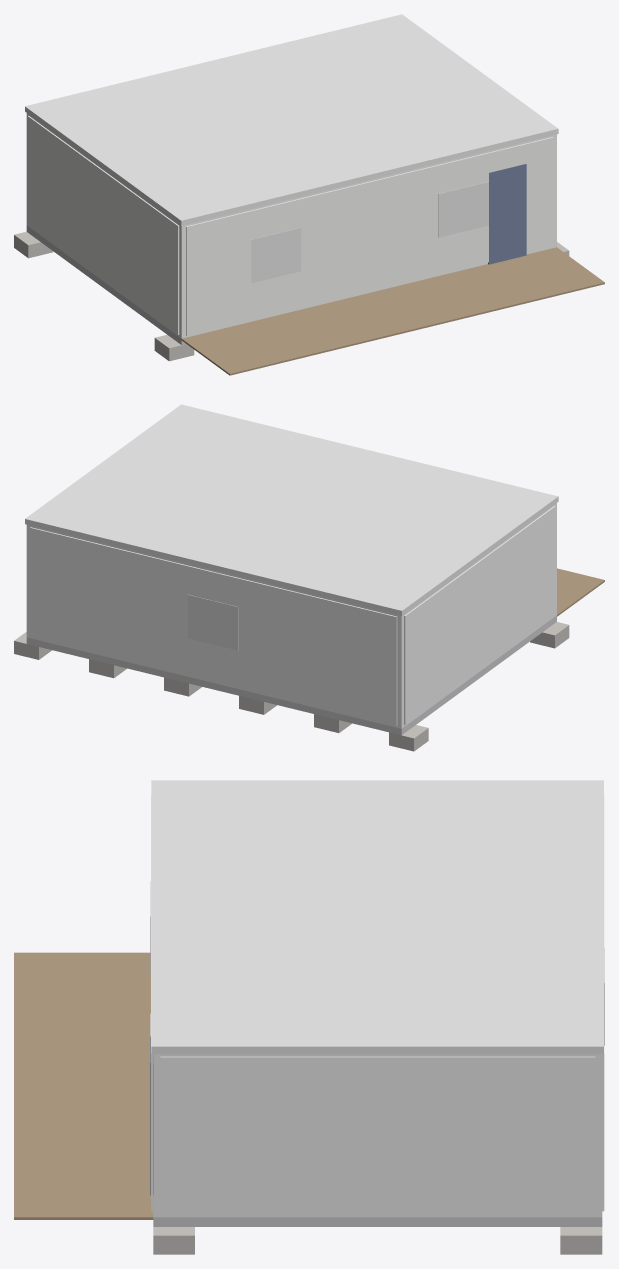
Rendered from Studio-30-TerraceDeck-LOD0.glb.
3 views of the same model, one above another, from view 1: azimuth 30°, elevation 25°; view 2: azimuth 150°, elevation 25°; view 3: azimuth 270°, elevation 25° (orthographic). The views are drawn at different scales.
Parts seen in each view (by area): view 1: RoofMain, ExteriorPanelsStandard, TerraceDeck, WindowsStandard, ExteriorShell, EntryDoor, FoundationBlocks, BaseFrame; view 2: RoofMain, ExteriorPanelsStandard, BaseFrame, FoundationBlocks, ExteriorShell, WindowsStandard, TerraceDeck; view 3: RoofMain, ExteriorPanelsStandard, TerraceDeck, ExteriorShell, BaseFrame, FoundationBlocks.
Part boxes in pixels (left/top/right/bottom): RoofMain: left=25, top=14, right=558, bottom=225; ExteriorPanelsStandard: left=27, top=115, right=553, bottom=335; TerraceDeck: left=181, top=247, right=604, bottom=375; WindowsStandard: left=251, top=181, right=488, bottom=283; ExteriorShell: left=26, top=113, right=556, bottom=338; EntryDoor: left=488, top=164, right=526, bottom=264; FoundationBlocks: left=14, top=231, right=569, bottom=361; BaseFrame: left=26, top=225, right=185, bottom=344; RoofMain: left=25, top=404, right=558, bottom=615; ExteriorPanelsStandard: left=30, top=506, right=555, bottom=726; BaseFrame: left=26, top=615, right=556, bottom=735; FoundationBlocks: left=14, top=622, right=569, bottom=751; ExteriorShell: left=26, top=503, right=556, bottom=728; WindowsStandard: left=188, top=594, right=238, bottom=650; TerraceDeck: left=557, top=568, right=604, bottom=616; RoofMain: left=151, top=780, right=603, bottom=1053; ExteriorPanelsStandard: left=151, top=795, right=604, bottom=1215; TerraceDeck: left=14, top=952, right=153, bottom=1219; ExteriorShell: left=153, top=1054, right=602, bottom=1217; BaseFrame: left=153, top=1217, right=602, bottom=1226; FoundationBlocks: left=153, top=1227, right=602, bottom=1254.
Size of the model in its own units: 9.6 by 3.17 by 8.49.
